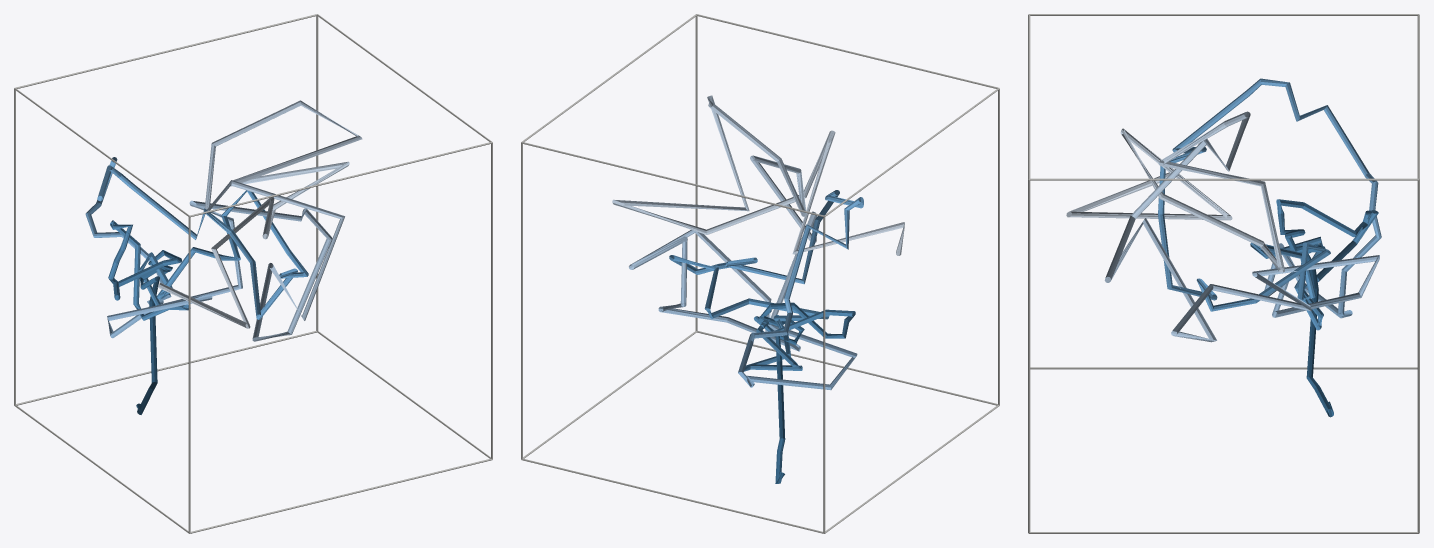
3 renders of one model, left to right at view 1: azimuth 30°, elevation 25°; view 2: azimuth 150°, elevation 25°; view 3: azimuth 270°, elevation 25°, orthographic. The views are drawn at different scales.
Parts seen in each view (by area): view 1: geometry_0, geometry_1; view 2: geometry_0, geometry_1; view 3: geometry_0, geometry_1.
Part boxes in pixels (x1,y1,x2,y2): geometry_0: [85, 100, 362, 414]; geometry_1: [14, 14, 492, 533]; geometry_0: [612, 95, 904, 483]; geometry_1: [521, 14, 999, 533]; geometry_0: [1066, 78, 1381, 417]; geometry_1: [1028, 14, 1419, 533].
Size of the model in its own units: 0.3016 by 0.3038 by 0.3016.
